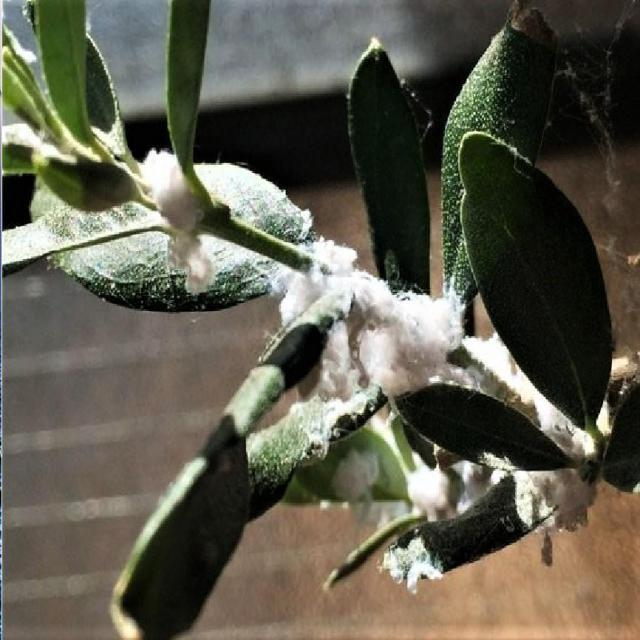Psyllid: (280, 238, 598, 590), (138, 150, 214, 296)
